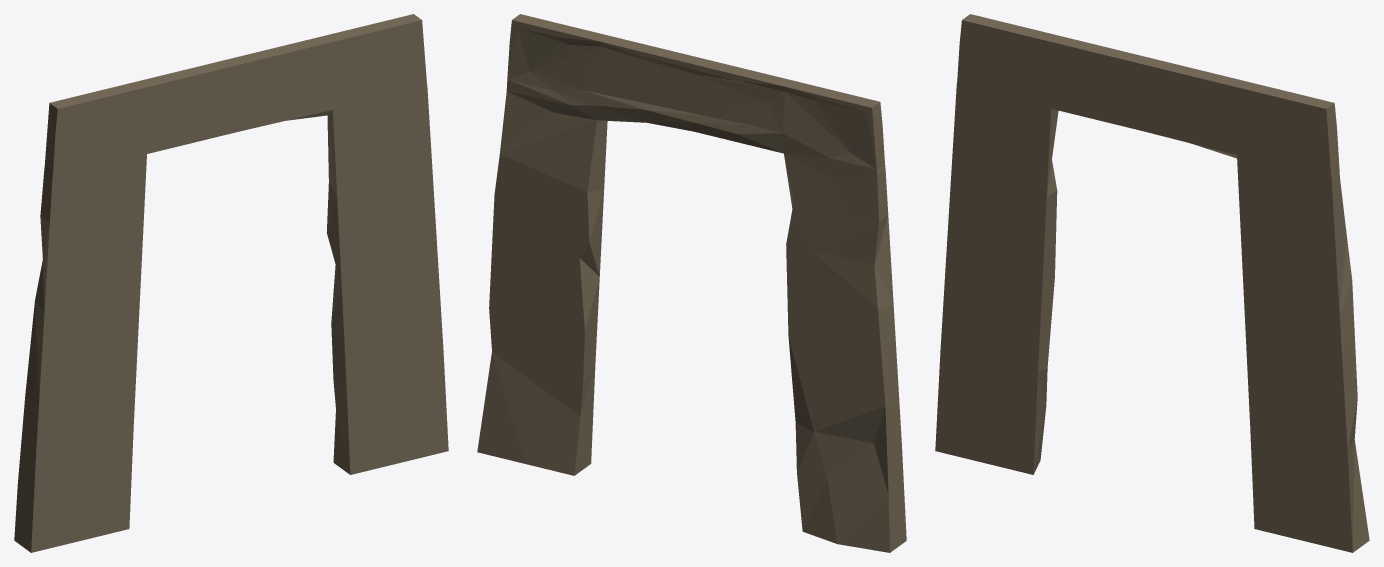
Rendered from Door_1_low.fbx.
3 renders of one model, left to right at view 1: azimuth 30°, elevation 25°; view 2: azimuth 150°, elevation 25°; view 3: azimuth 330°, elevation 25°, orthographic.
Parts seen in each view (by area): view 1: Door_1_low; view 2: Door_1_low; view 3: Door_1_low.
Part boxes in pixels (left/top/right/bottom): Door_1_low: left=14, top=14, right=448, bottom=552; Door_1_low: left=477, top=14, right=906, bottom=552; Door_1_low: left=935, top=14, right=1369, bottom=552.
Bounding box in the file's own units: 3 × 3 × 0.2617.
